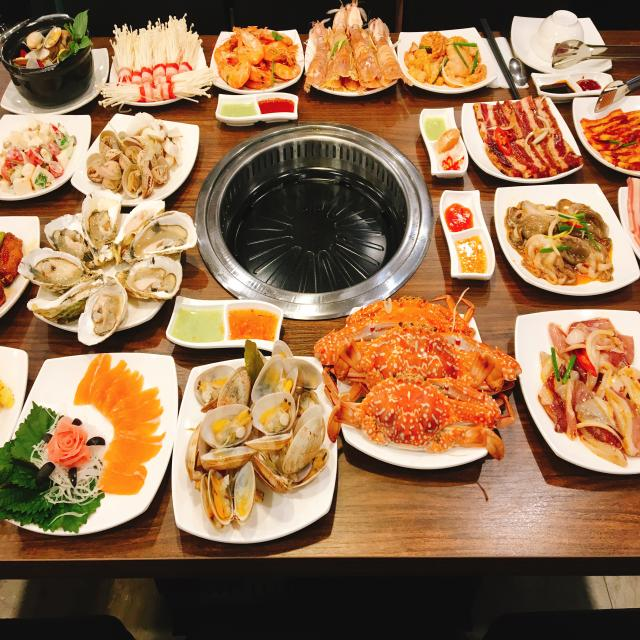ba chi song: (473, 97, 579, 175)
bach tuoc song: (501, 203, 612, 293)
bo cuon kim cham: (106, 27, 203, 100)
ghe hap: (330, 296, 512, 471)
hau song: (33, 196, 190, 340)
muc song: (527, 315, 640, 461)
ngheu hap: (1, 25, 97, 97)
ngheu song: (185, 352, 322, 536)
sashimi: (78, 351, 158, 508)
so song: (89, 124, 187, 197)
tom luoc: (210, 18, 304, 88)
tom tit hap: (304, 5, 397, 106)
